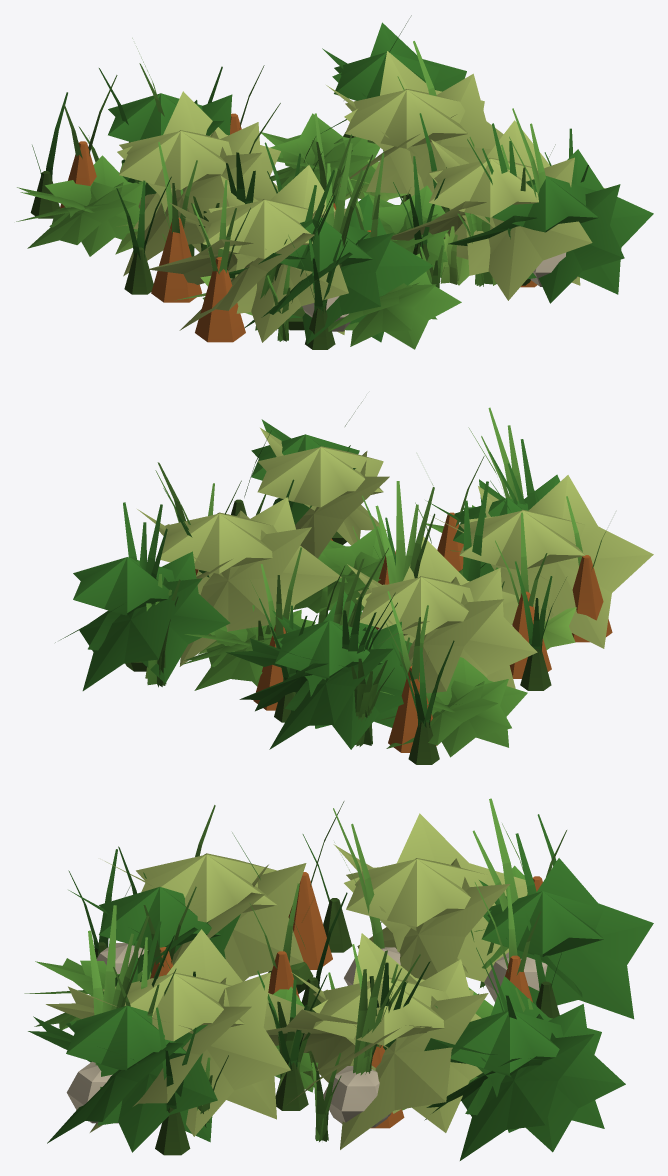
The model's file is crops-winter.glb.
3 views of the same model, one above another, from view 1: azimuth 30°, elevation 25°; view 2: azimuth 150°, elevation 25°; view 3: azimuth 270°, elevation 25° (orthographic). The views are drawn at different scales.
Visible parts, largest first — view 1: SM_crop_cabbage_s4, SM_crop_cabbage_s3, SM_crop_cabbage_s2, SM_crop_carrot_s4, SM_crop_carrot_s3, SM_crop_garlic_s4, SM_crop_garlic_s3, SM_crop_garlic_s2, SM_crop_carrot_s2, SM_crop_cabbage_s1, SM_crop_garlic_s1; view 2: SM_crop_cabbage_s4, SM_crop_cabbage_s3, SM_crop_cabbage_s2, SM_crop_carrot_s4, SM_crop_carrot_s3, SM_crop_garlic_s3, SM_crop_garlic_s4, SM_crop_garlic_s2, SM_crop_cabbage_s1, SM_crop_carrot_s2; view 3: SM_crop_cabbage_s4, SM_crop_cabbage_s3, SM_crop_garlic_s4, SM_crop_carrot_s4, SM_crop_carrot_s3, SM_crop_cabbage_s2, SM_crop_garlic_s3, SM_crop_carrot_s2, SM_crop_garlic_s2.
Part boxes in pixels (left/top/right/bottom): SM_crop_cabbage_s4: left=117, top=51, right=605, bottom=342; SM_crop_cabbage_s3: left=108, top=22, right=653, bottom=344; SM_crop_cabbage_s2: left=16, top=113, right=461, bottom=349; SM_crop_carrot_s4: left=60, top=65, right=555, bottom=342; SM_crop_carrot_s3: left=30, top=66, right=588, bottom=349; SM_crop_garlic_s4: left=132, top=38, right=577, bottom=331; SM_crop_garlic_s3: left=99, top=15, right=530, bottom=330; SM_crop_garlic_s2: left=78, top=100, right=492, bottom=330; SM_crop_carrot_s2: left=135, top=137, right=474, bottom=341; SM_crop_cabbage_s1: left=115, top=159, right=469, bottom=315; SM_crop_garlic_s1: left=162, top=190, right=458, bottom=284; SM_crop_cabbage_s4: left=137, top=428, right=653, bottom=693; SM_crop_cabbage_s3: left=55, top=419, right=560, bottom=749; SM_crop_cabbage_s2: left=182, top=505, right=527, bottom=757; SM_crop_carrot_s4: left=180, top=456, right=612, bottom=752; SM_crop_carrot_s3: left=231, top=430, right=566, bottom=764; SM_crop_garlic_s3: left=123, top=439, right=536, bottom=671; SM_crop_garlic_s4: left=155, top=401, right=523, bottom=630; SM_crop_garlic_s2: left=146, top=567, right=504, bottom=746; SM_crop_cabbage_s1: left=198, top=607, right=576, bottom=654; SM_crop_carrot_s2: left=251, top=494, right=431, bottom=666; SM_crop_cabbage_s4: left=46, top=813, right=527, bottom=1149; SM_crop_cabbage_s3: left=28, top=858, right=653, bottom=1160; SM_crop_garlic_s4: left=66, top=798, right=547, bottom=1127; SM_crop_carrot_s4: left=113, top=801, right=566, bottom=1128; SM_crop_carrot_s3: left=68, top=814, right=561, bottom=1155; SM_crop_cabbage_s2: left=24, top=865, right=527, bottom=1092; SM_crop_garlic_s3: left=118, top=832, right=536, bottom=1049; SM_crop_carrot_s2: left=188, top=922, right=493, bottom=1141; SM_crop_garlic_s2: left=143, top=872, right=533, bottom=1078.
Size of the model in its own units: 1.59 by 0.5448 by 1.63.
